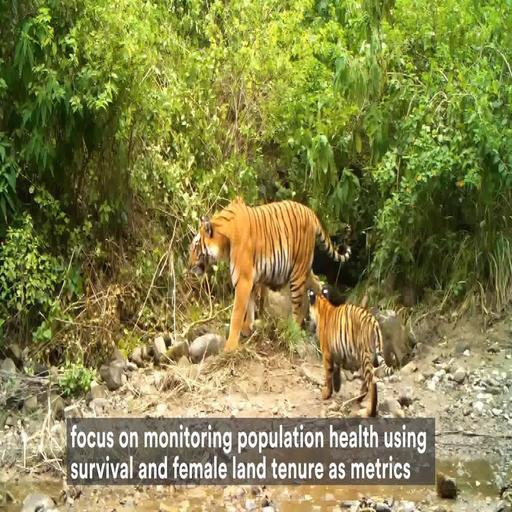Tiger: (183, 191, 357, 359), (300, 289, 400, 422)
